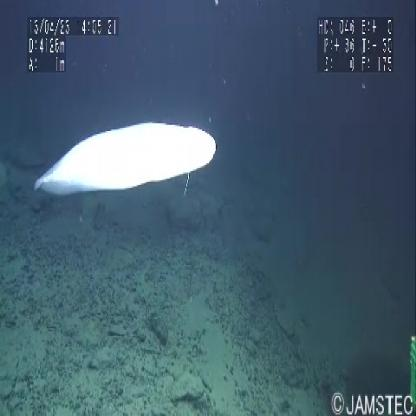Bio: (30, 114, 219, 203)
